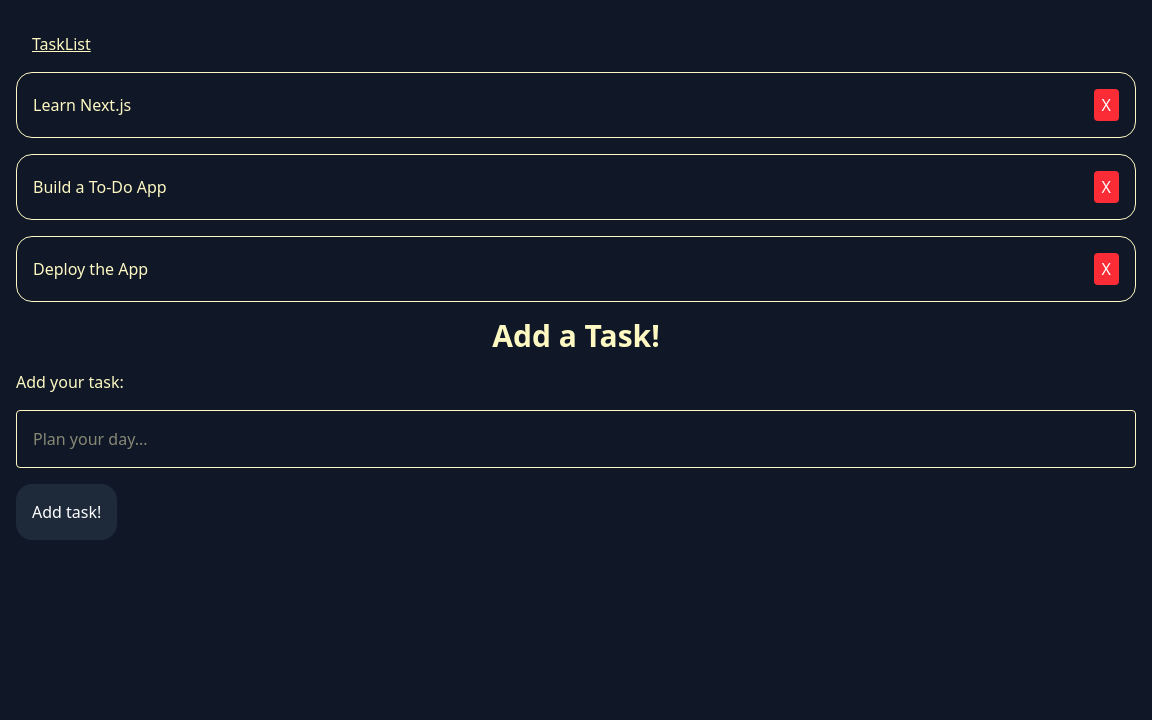
Test case: Integration test for ToDo app › Test removing the second task works
This screenshot has width=1152, height=720.
Expected: the number of list items is 3, [16, 72, 1136, 138]; [16, 154, 1136, 220]; [16, 236, 1136, 302]
Expected: the list item "Build a To-Do App X" is shown, [16, 154, 1136, 220]
Remove task
Step 1. Click the button "X" in the row of "Build a To-Do App" → x=1106, y=187, box [1094, 171, 1119, 203]
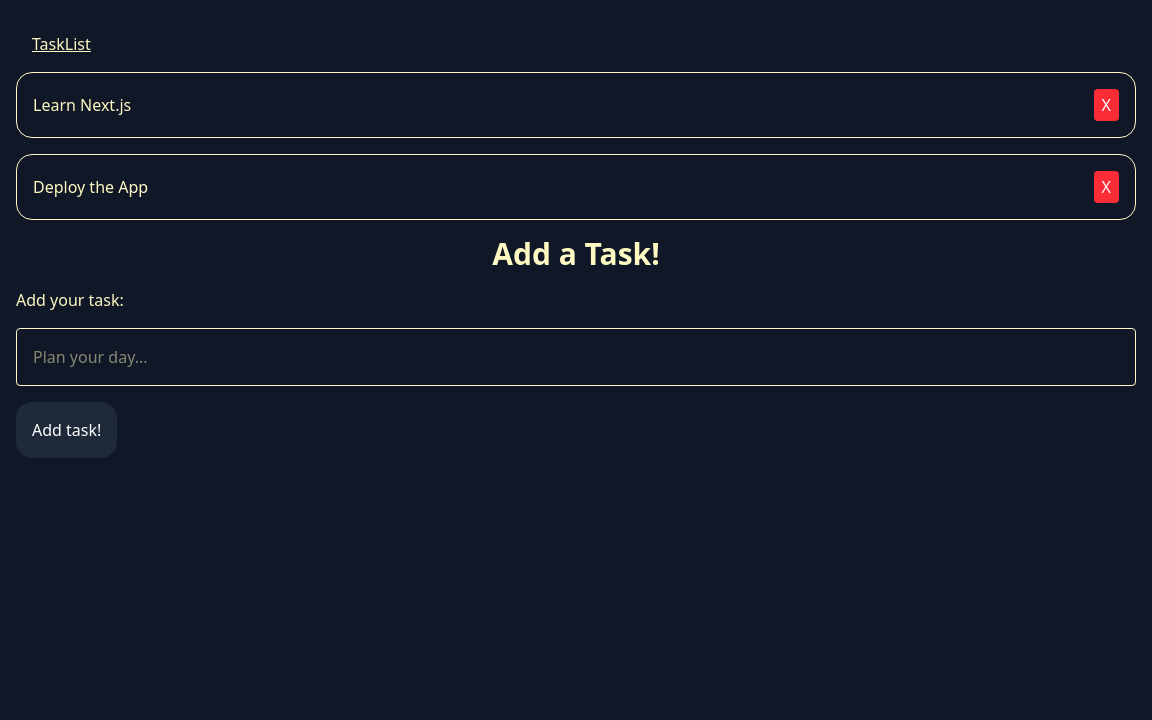
Now the number of list items is 2, box [16, 72, 1136, 138]; [16, 154, 1136, 220]
Now the text "Build a To-Do App" is gone
